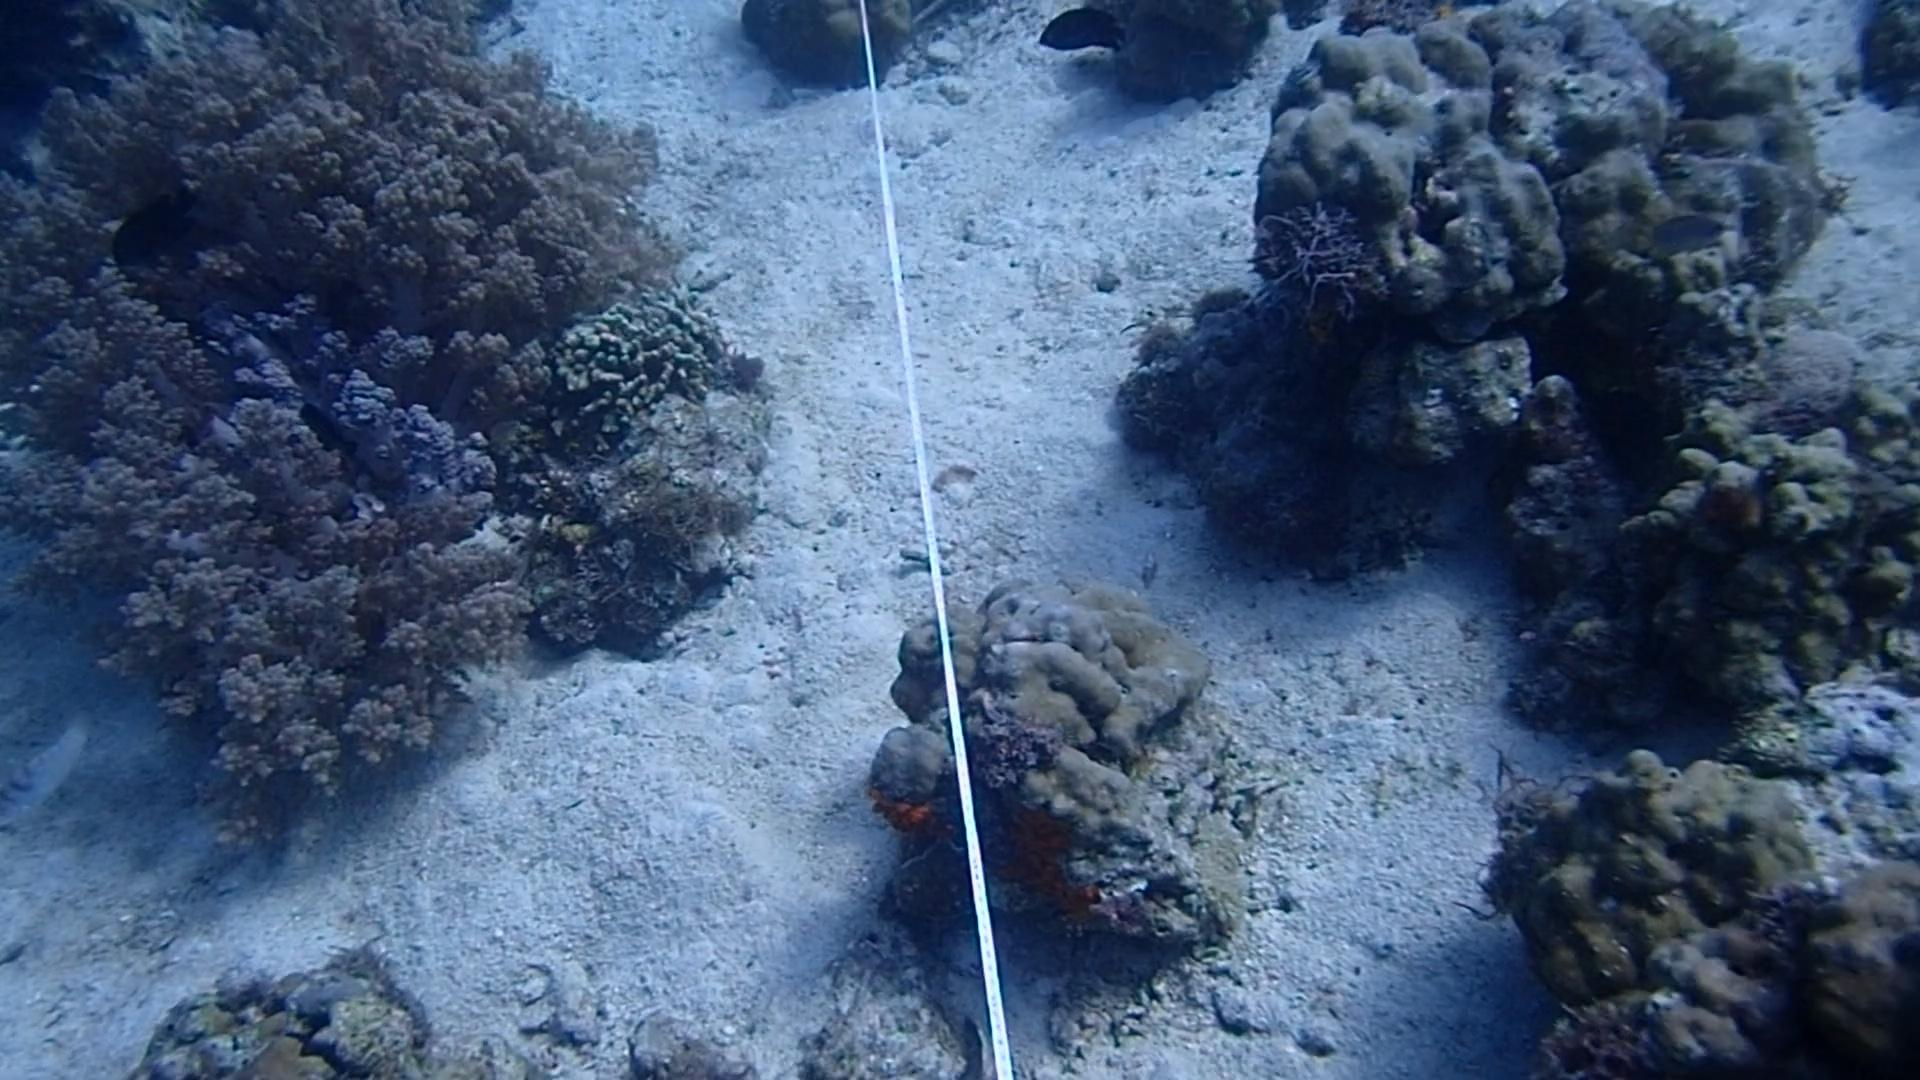Dark Fish: (104, 183, 200, 273), (1034, 3, 1139, 65), (281, 402, 369, 473)
Light Fish w Back Stripes: (0, 717, 109, 824)
